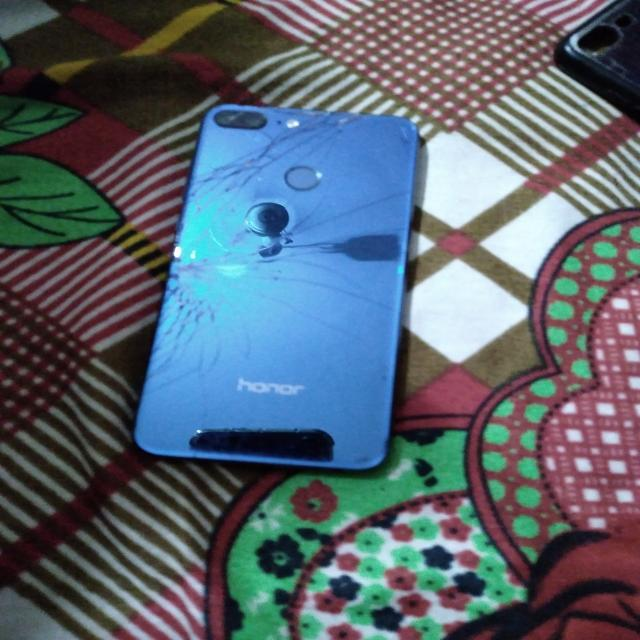Crack: (151, 93, 399, 433)
